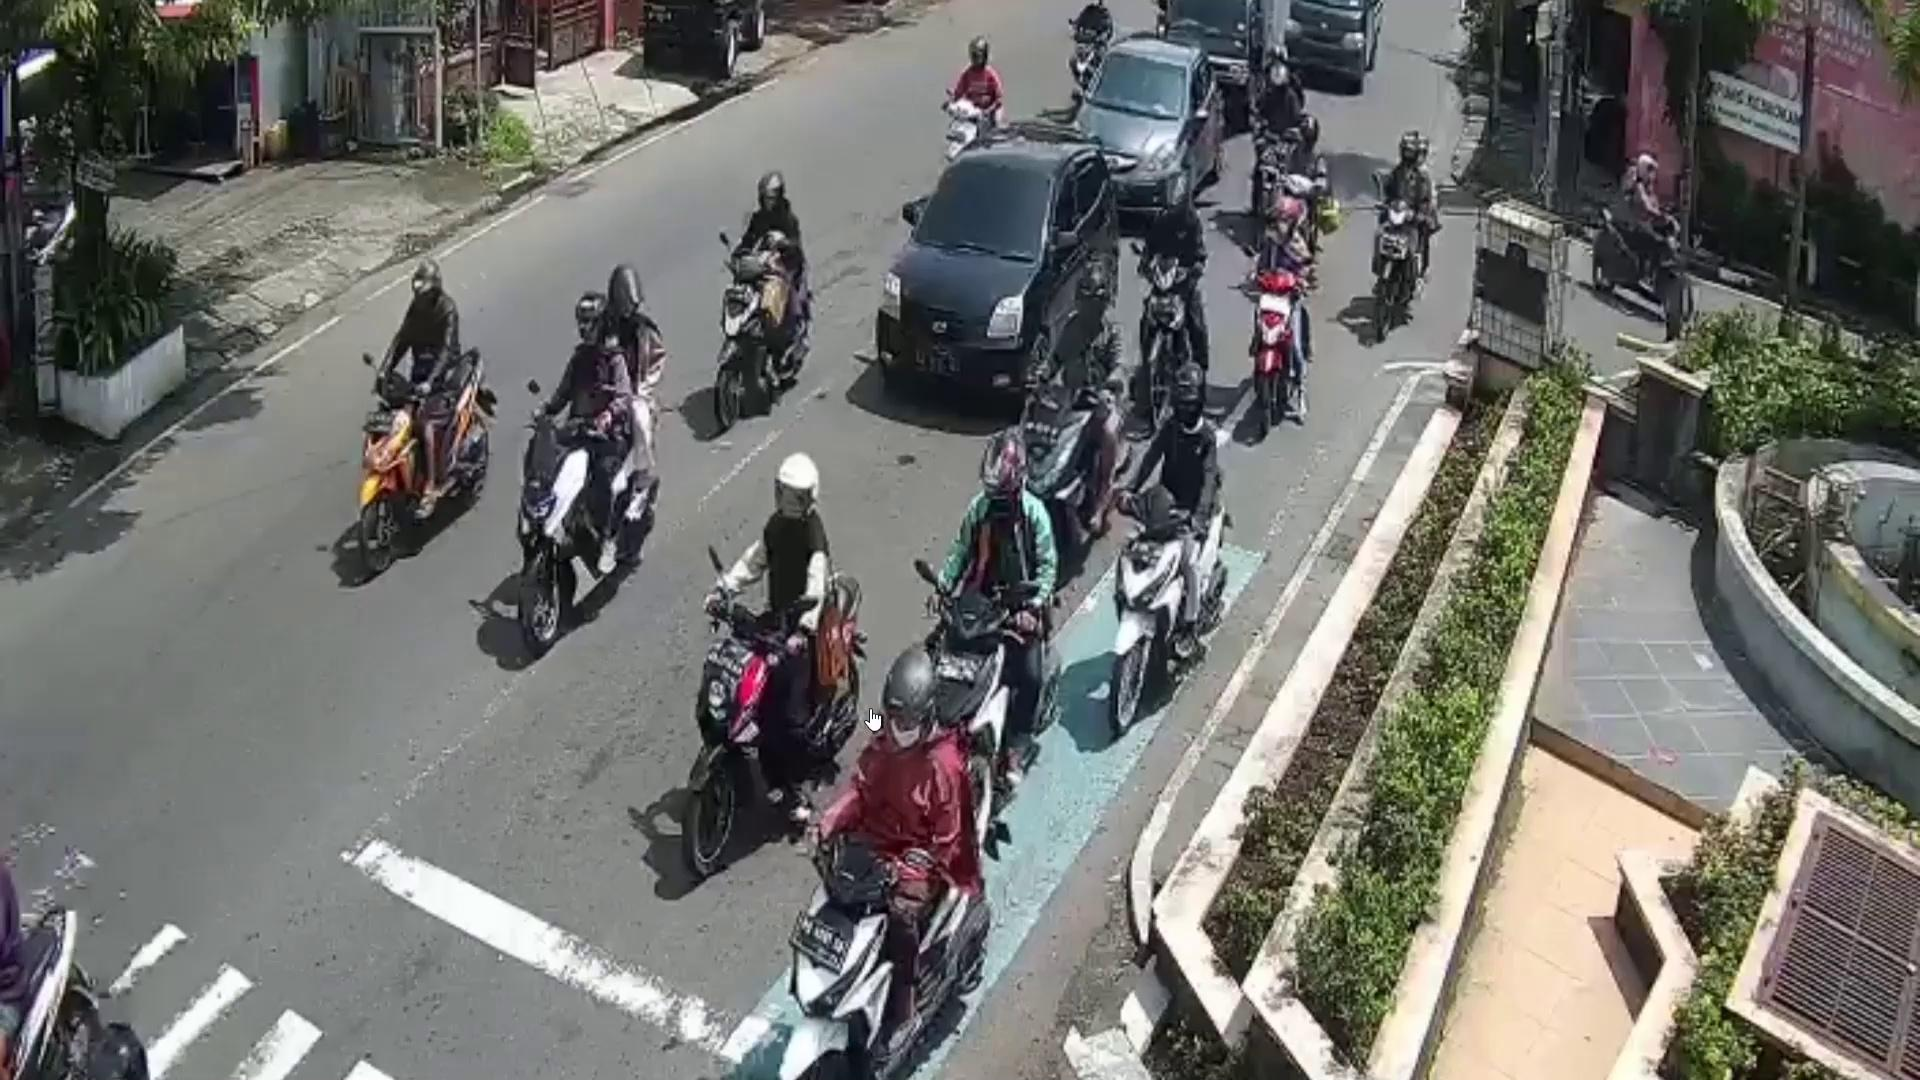car: (877, 124, 1110, 402), (1071, 30, 1224, 216), (1160, 0, 1262, 121), (1282, 0, 1383, 95)
motorbike: (781, 757, 998, 1080), (691, 570, 860, 880), (521, 406, 659, 651), (353, 345, 491, 574), (1110, 488, 1229, 731), (720, 251, 814, 425), (1604, 194, 1697, 334), (1250, 264, 1313, 435), (1135, 253, 1197, 422), (1374, 190, 1419, 343)
